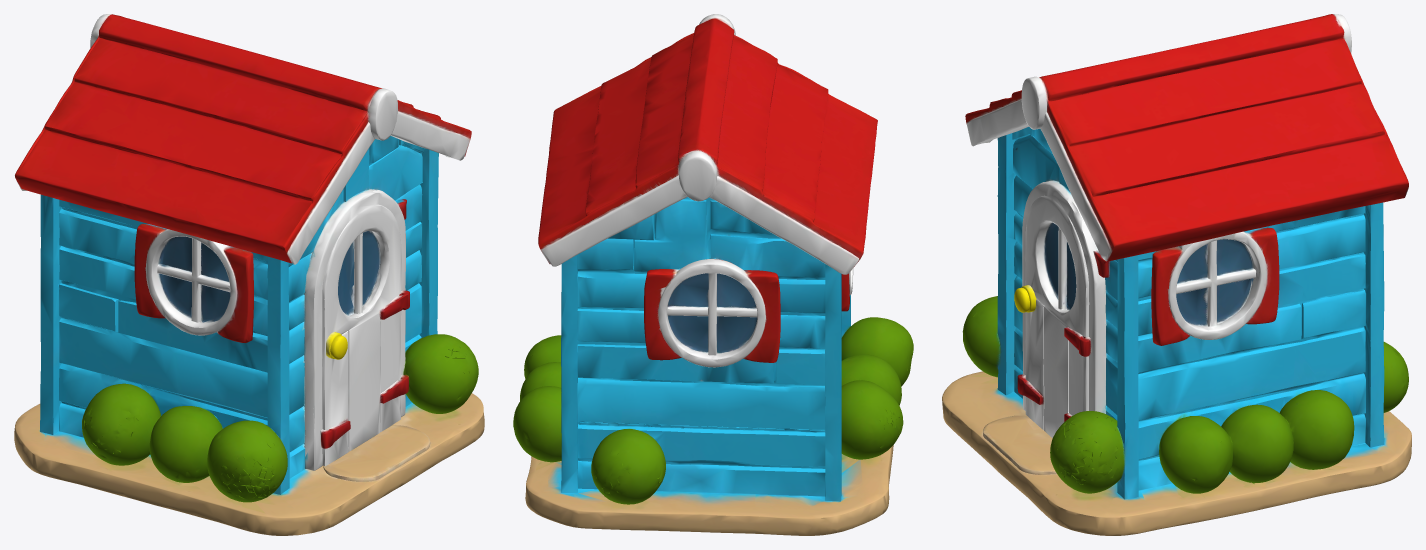
File: house.glb
3 renders of one model, left to right at view 1: azimuth 30°, elevation 25°; view 2: azimuth 150°, elevation 25°; view 3: azimuth 270°, elevation 25°, orthographic. The views are drawn at different scales.
Parts seen in each view (by area): view 1: tripo_node_9010c447-23ca-4f92-9e55-35de5e4dfed9; view 2: tripo_node_9010c447-23ca-4f92-9e55-35de5e4dfed9; view 3: tripo_node_9010c447-23ca-4f92-9e55-35de5e4dfed9.
Part boxes in pixels (x1,y1,x2,y2): tripo_node_9010c447-23ca-4f92-9e55-35de5e4dfed9: (14,14,484,535); tripo_node_9010c447-23ca-4f92-9e55-35de5e4dfed9: (513,14,913,535); tripo_node_9010c447-23ca-4f92-9e55-35de5e4dfed9: (942,14,1411,535).
Size of the model in its own units: 6.44 by 6 by 6.49.
Materials: 1 (1 with a texture image).
